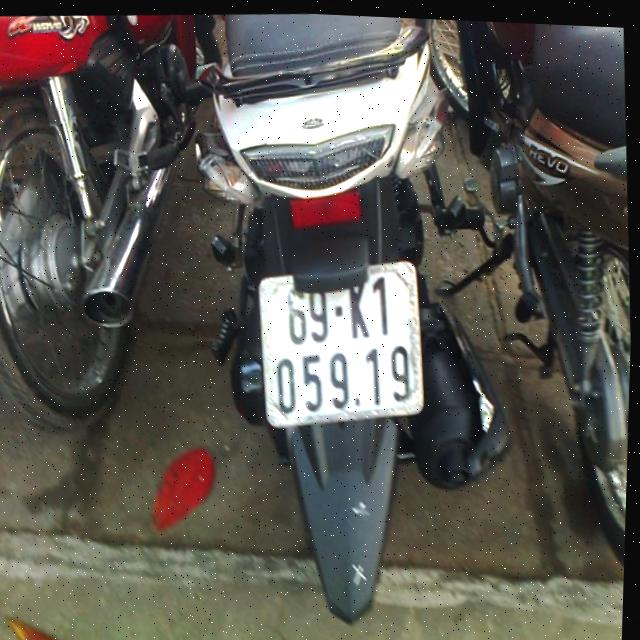motorcycle: (187, 9, 530, 640), (423, 20, 640, 602), (0, 5, 222, 455)
plate: (245, 257, 433, 435)
